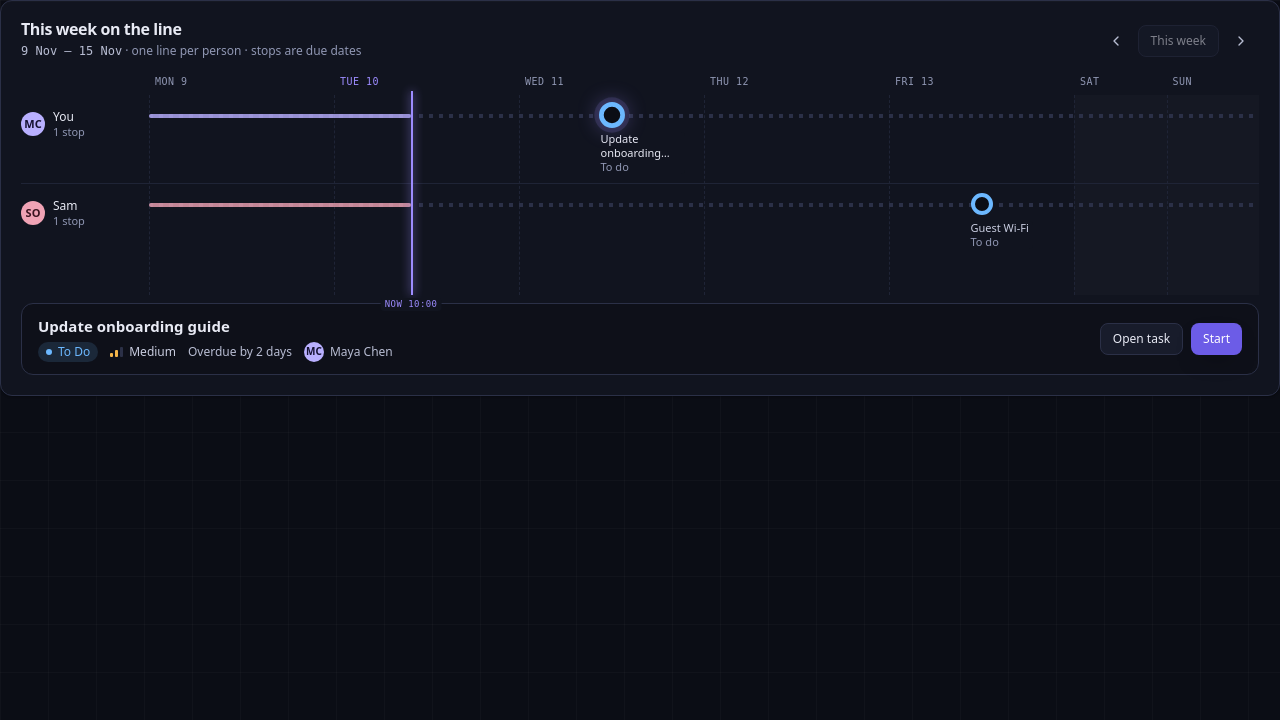
Scenario: WeekLineMap › moves a task straight away and keeps it when the server agrees
Click the button "Update onboarding guide To do".
click(642, 139)  # box [600,104,684,174]
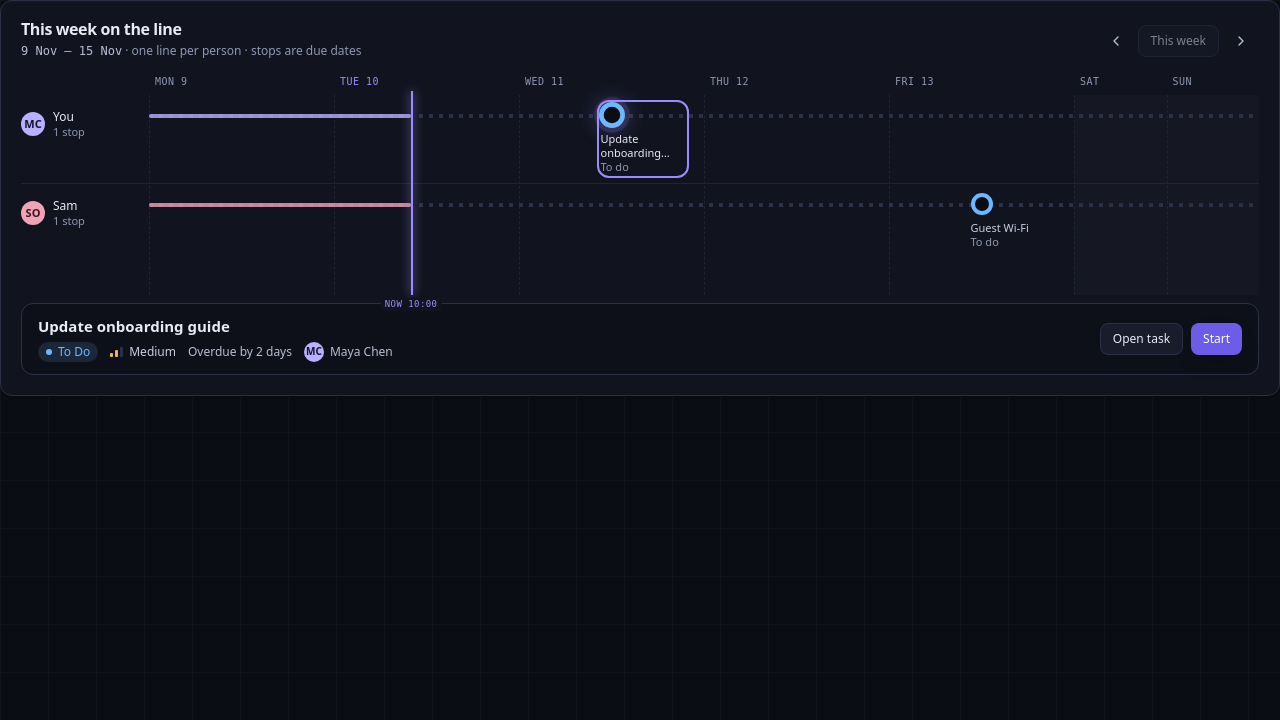
Click the button "Start".
click(1216, 339)  # box [1191,323,1242,355]
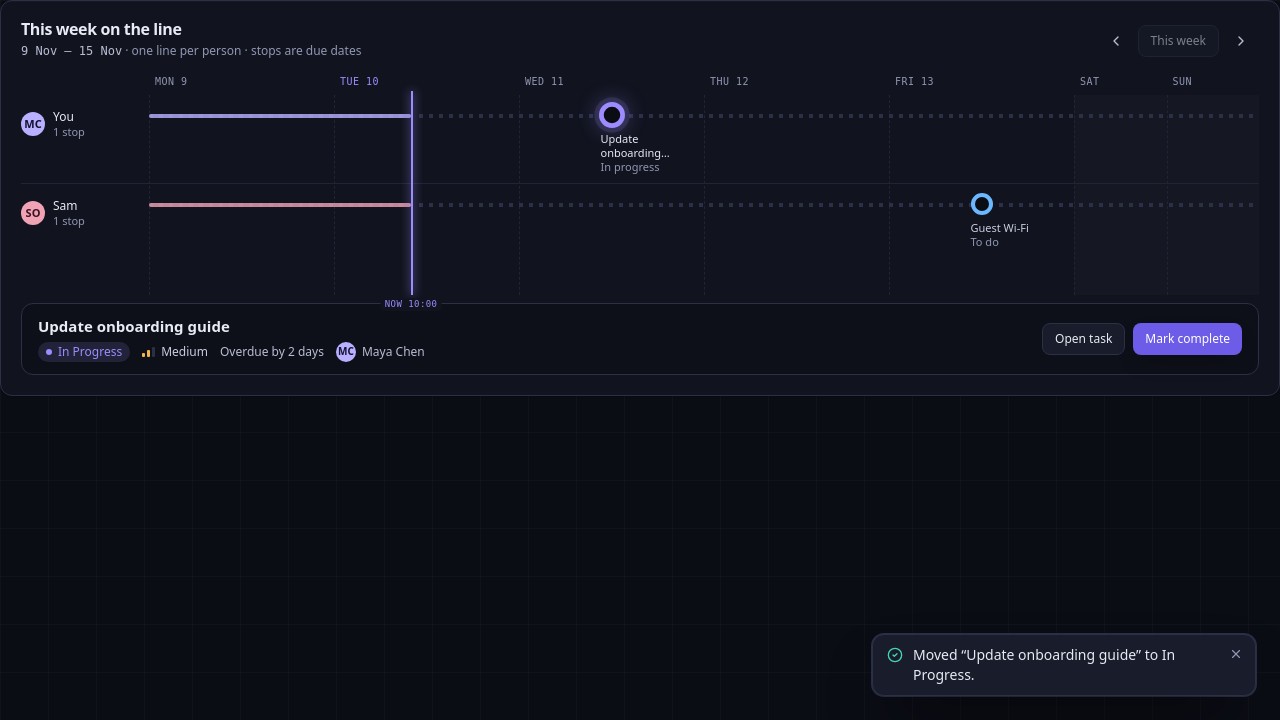
expect the button "Update onboarding guide In progress" is shown: met, box [600,104,684,174]
expect the text "Moved “Update onboarding guide” to In Progress." is shown: met, box [913,645,1217,685]
